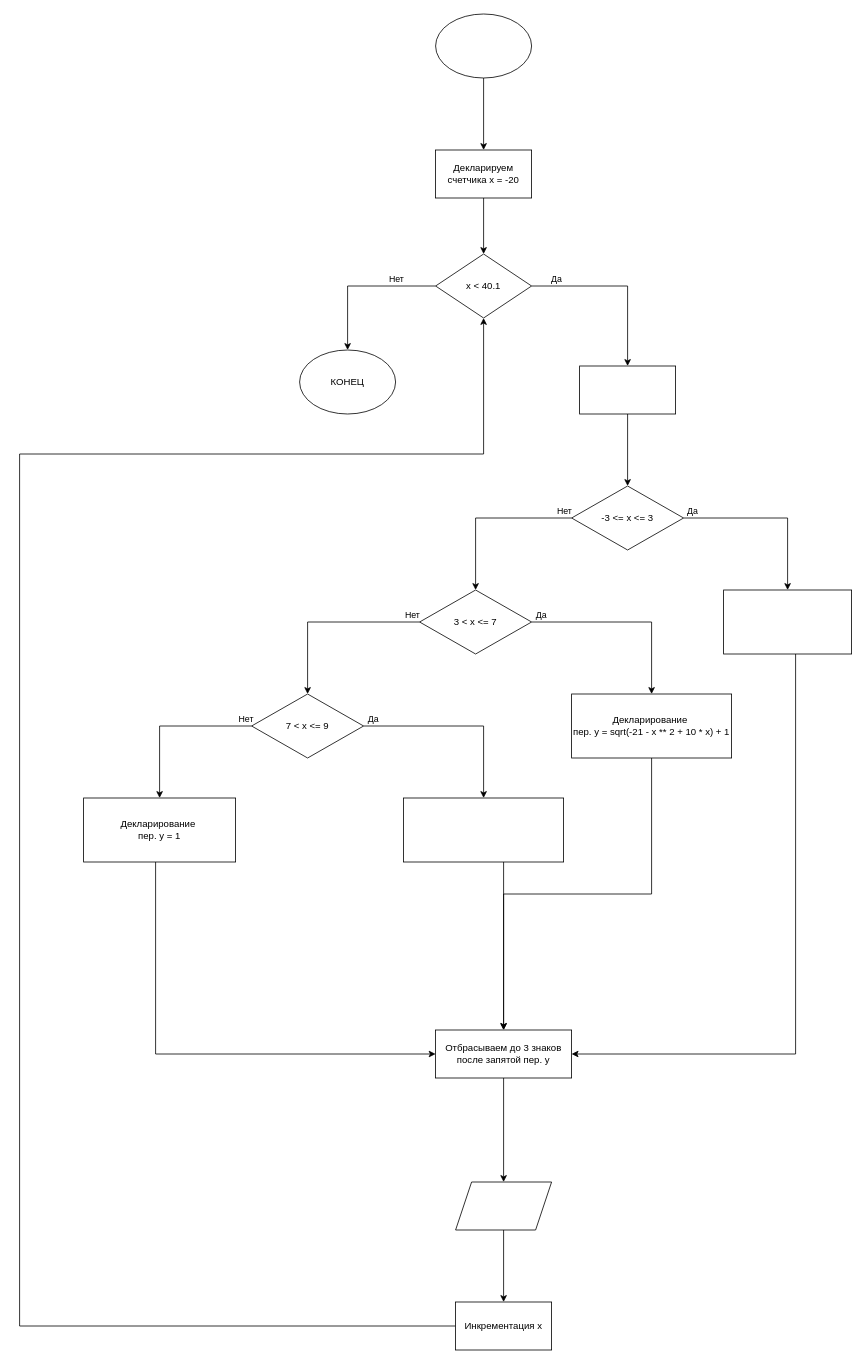
This 866x1364 diagram has some shape labels left out. Here are the shapes that lost their labels. From the top down, the box of each, then its label:
(435, 13, 532, 78): НАЧАЛО
(579, 365, 676, 414): Отбрасываем до 3 знаков после запятой пер. x
(723, 589, 852, 654): Декларирование пер. y = sqrt(9 - x**2) + 1
(403, 797, 564, 862): Декларирование пер. y=sqrt(-63 - x ** 2 + 16 * x) + 1
(455, 1181, 552, 1230): Вывод f({x}) = {y}
